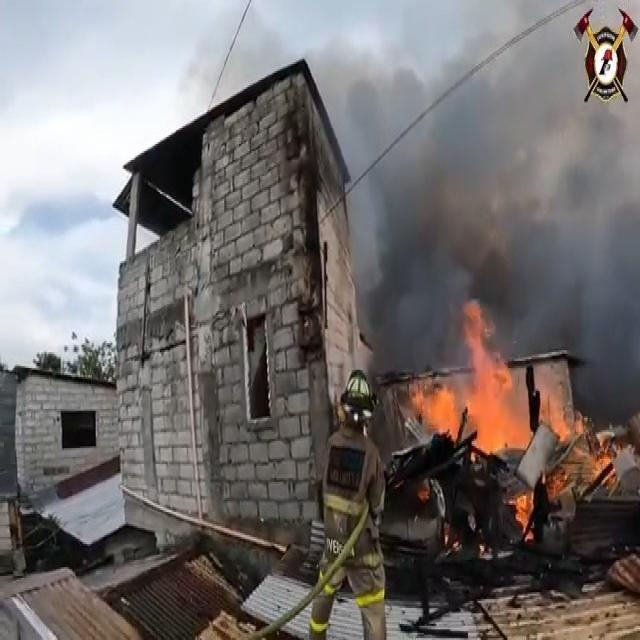Fire: (404, 296, 580, 451), (585, 422, 619, 493), (509, 488, 537, 546), (546, 458, 570, 498)
Smoke: (357, 56, 640, 427)
